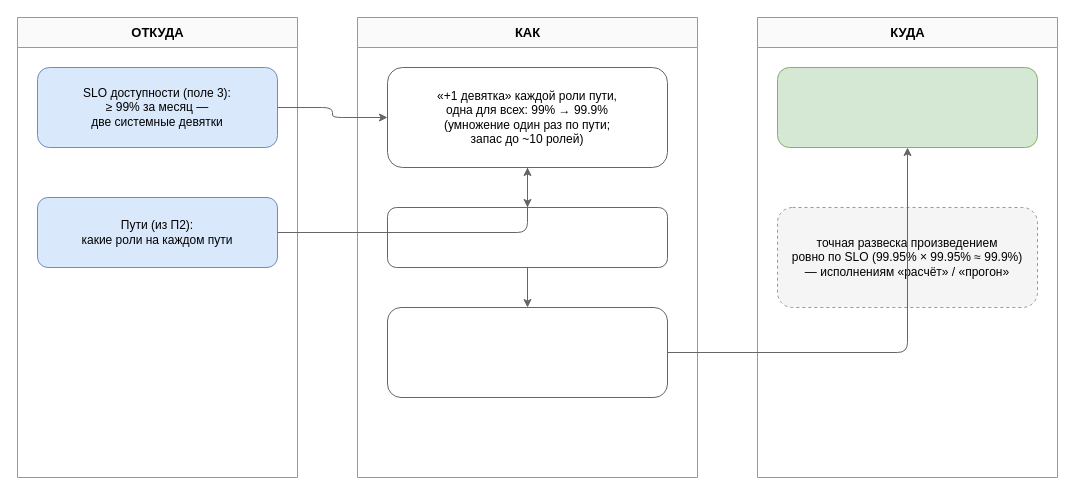
This 1075x495 diagram has some shape labels left out. Here are the shapes that lost their labels. From the top down, the centre of each, then its label:
the point at 907,107: бюджеты_ролей (доступность): 99.9% каждой роли пути
the point at 527,237: Несколько путей у роли — самое строгое требование
the point at 527,352: Проверка сборки: произведение ≥ SLO: 99.9% × 99.9% ≈ 99.8% ✓
